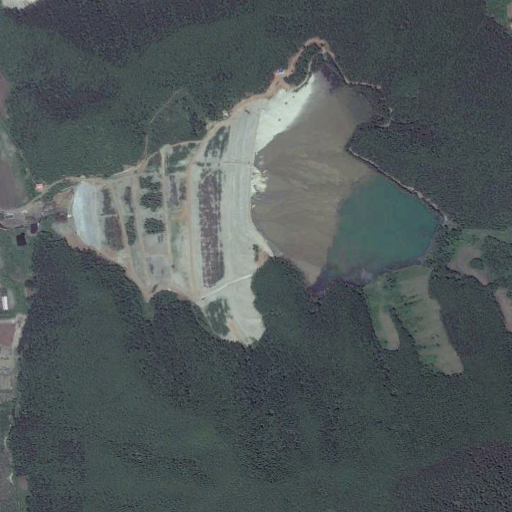tp: (68, 68, 443, 343)
